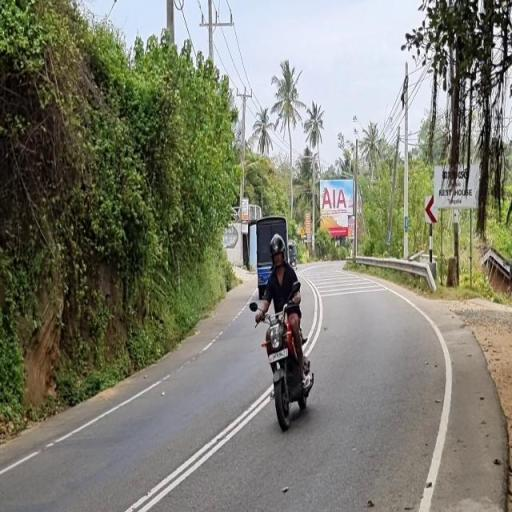double_white_line: (124, 388, 272, 511)
